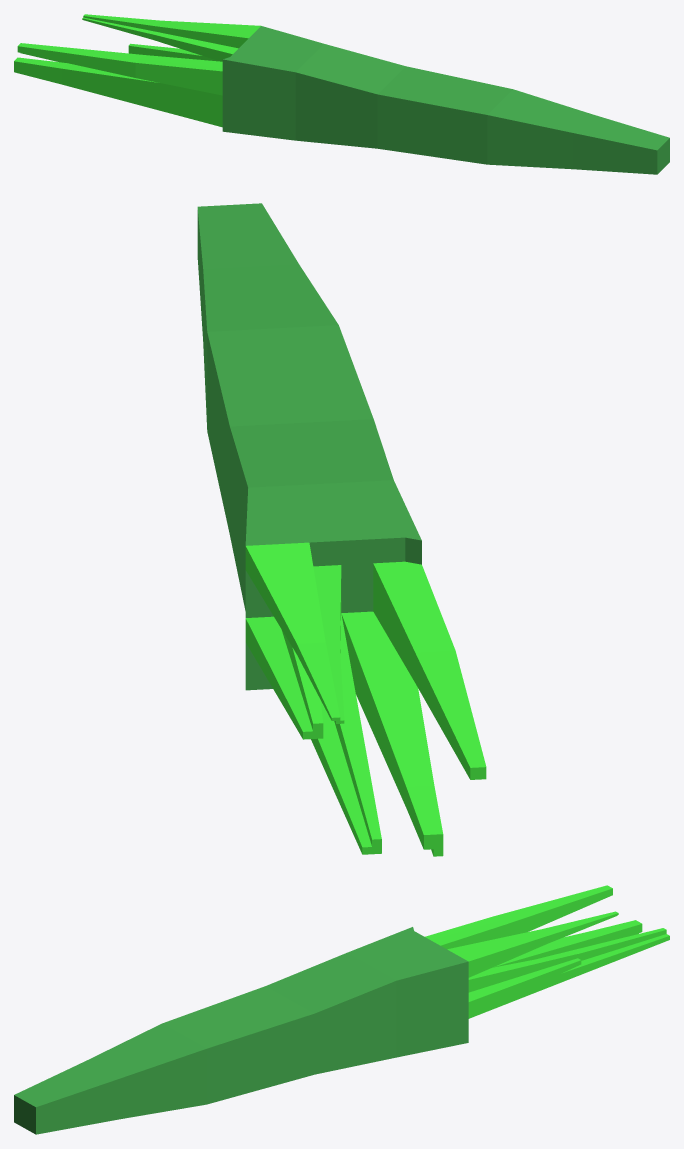
Rendered from celery.fbx.
3 renders of one model, top to bottom at view 1: azimuth 30°, elevation 25°; view 2: azimuth 150°, elevation 25°; view 3: azimuth 270°, elevation 25°, orthographic. The views are drawn at different scales.
Parts seen in each view (by area): view 1: Celery; view 2: Celery; view 3: Celery.
Part boxes in pixels (x1,y1,x2,y2): Celery: (14, 14, 669, 174); Celery: (197, 203, 486, 856); Celery: (14, 885, 669, 1134).
Size of the model in its own units: 190 by 32.96 by 241.
